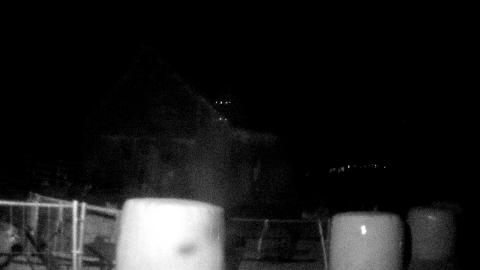sheep: (0, 222, 24, 264)
